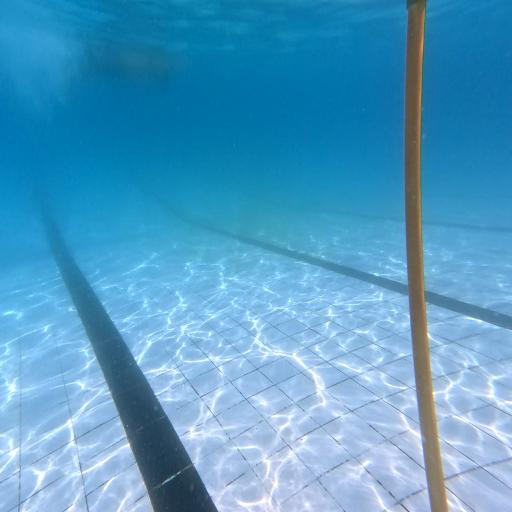pole_gate: (404, 0, 448, 512)
